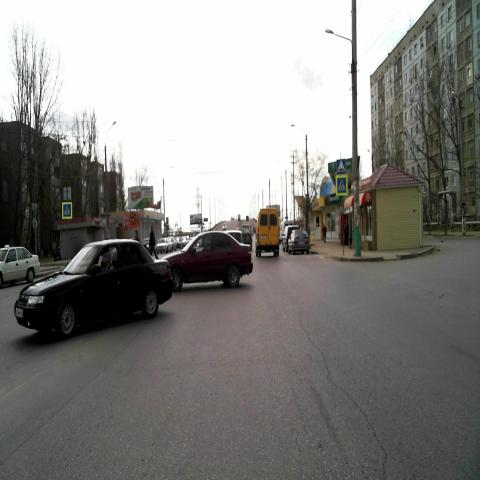5_19_1: (336, 174, 347, 196), (63, 202, 72, 218)
5_20: (337, 158, 345, 172)
